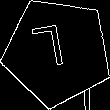L_S: (38, 24, 77, 80)
